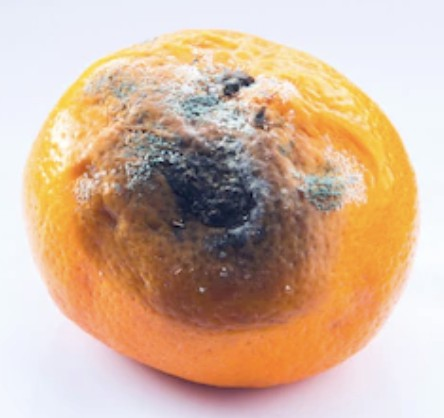rotten_orange: (24, 29, 417, 389)
